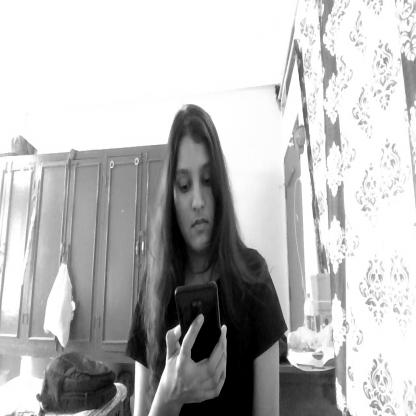Normal: (163, 105, 226, 258)
